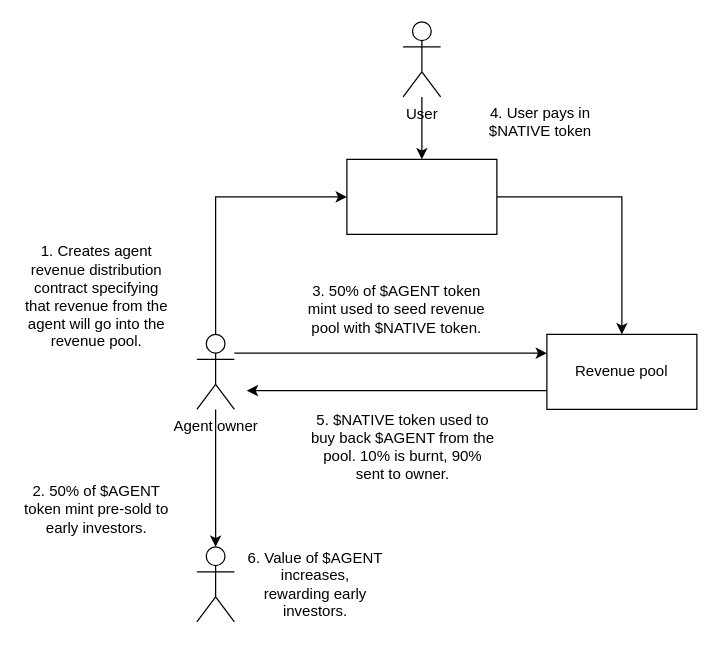
This 719x670 diagram has some shape labels left out. Here are the shapes that lost their labels. From the top down, the box of each, then its label:
(346, 158, 497, 234): App revenue distribution contract
(196, 546, 234, 622): Investor
